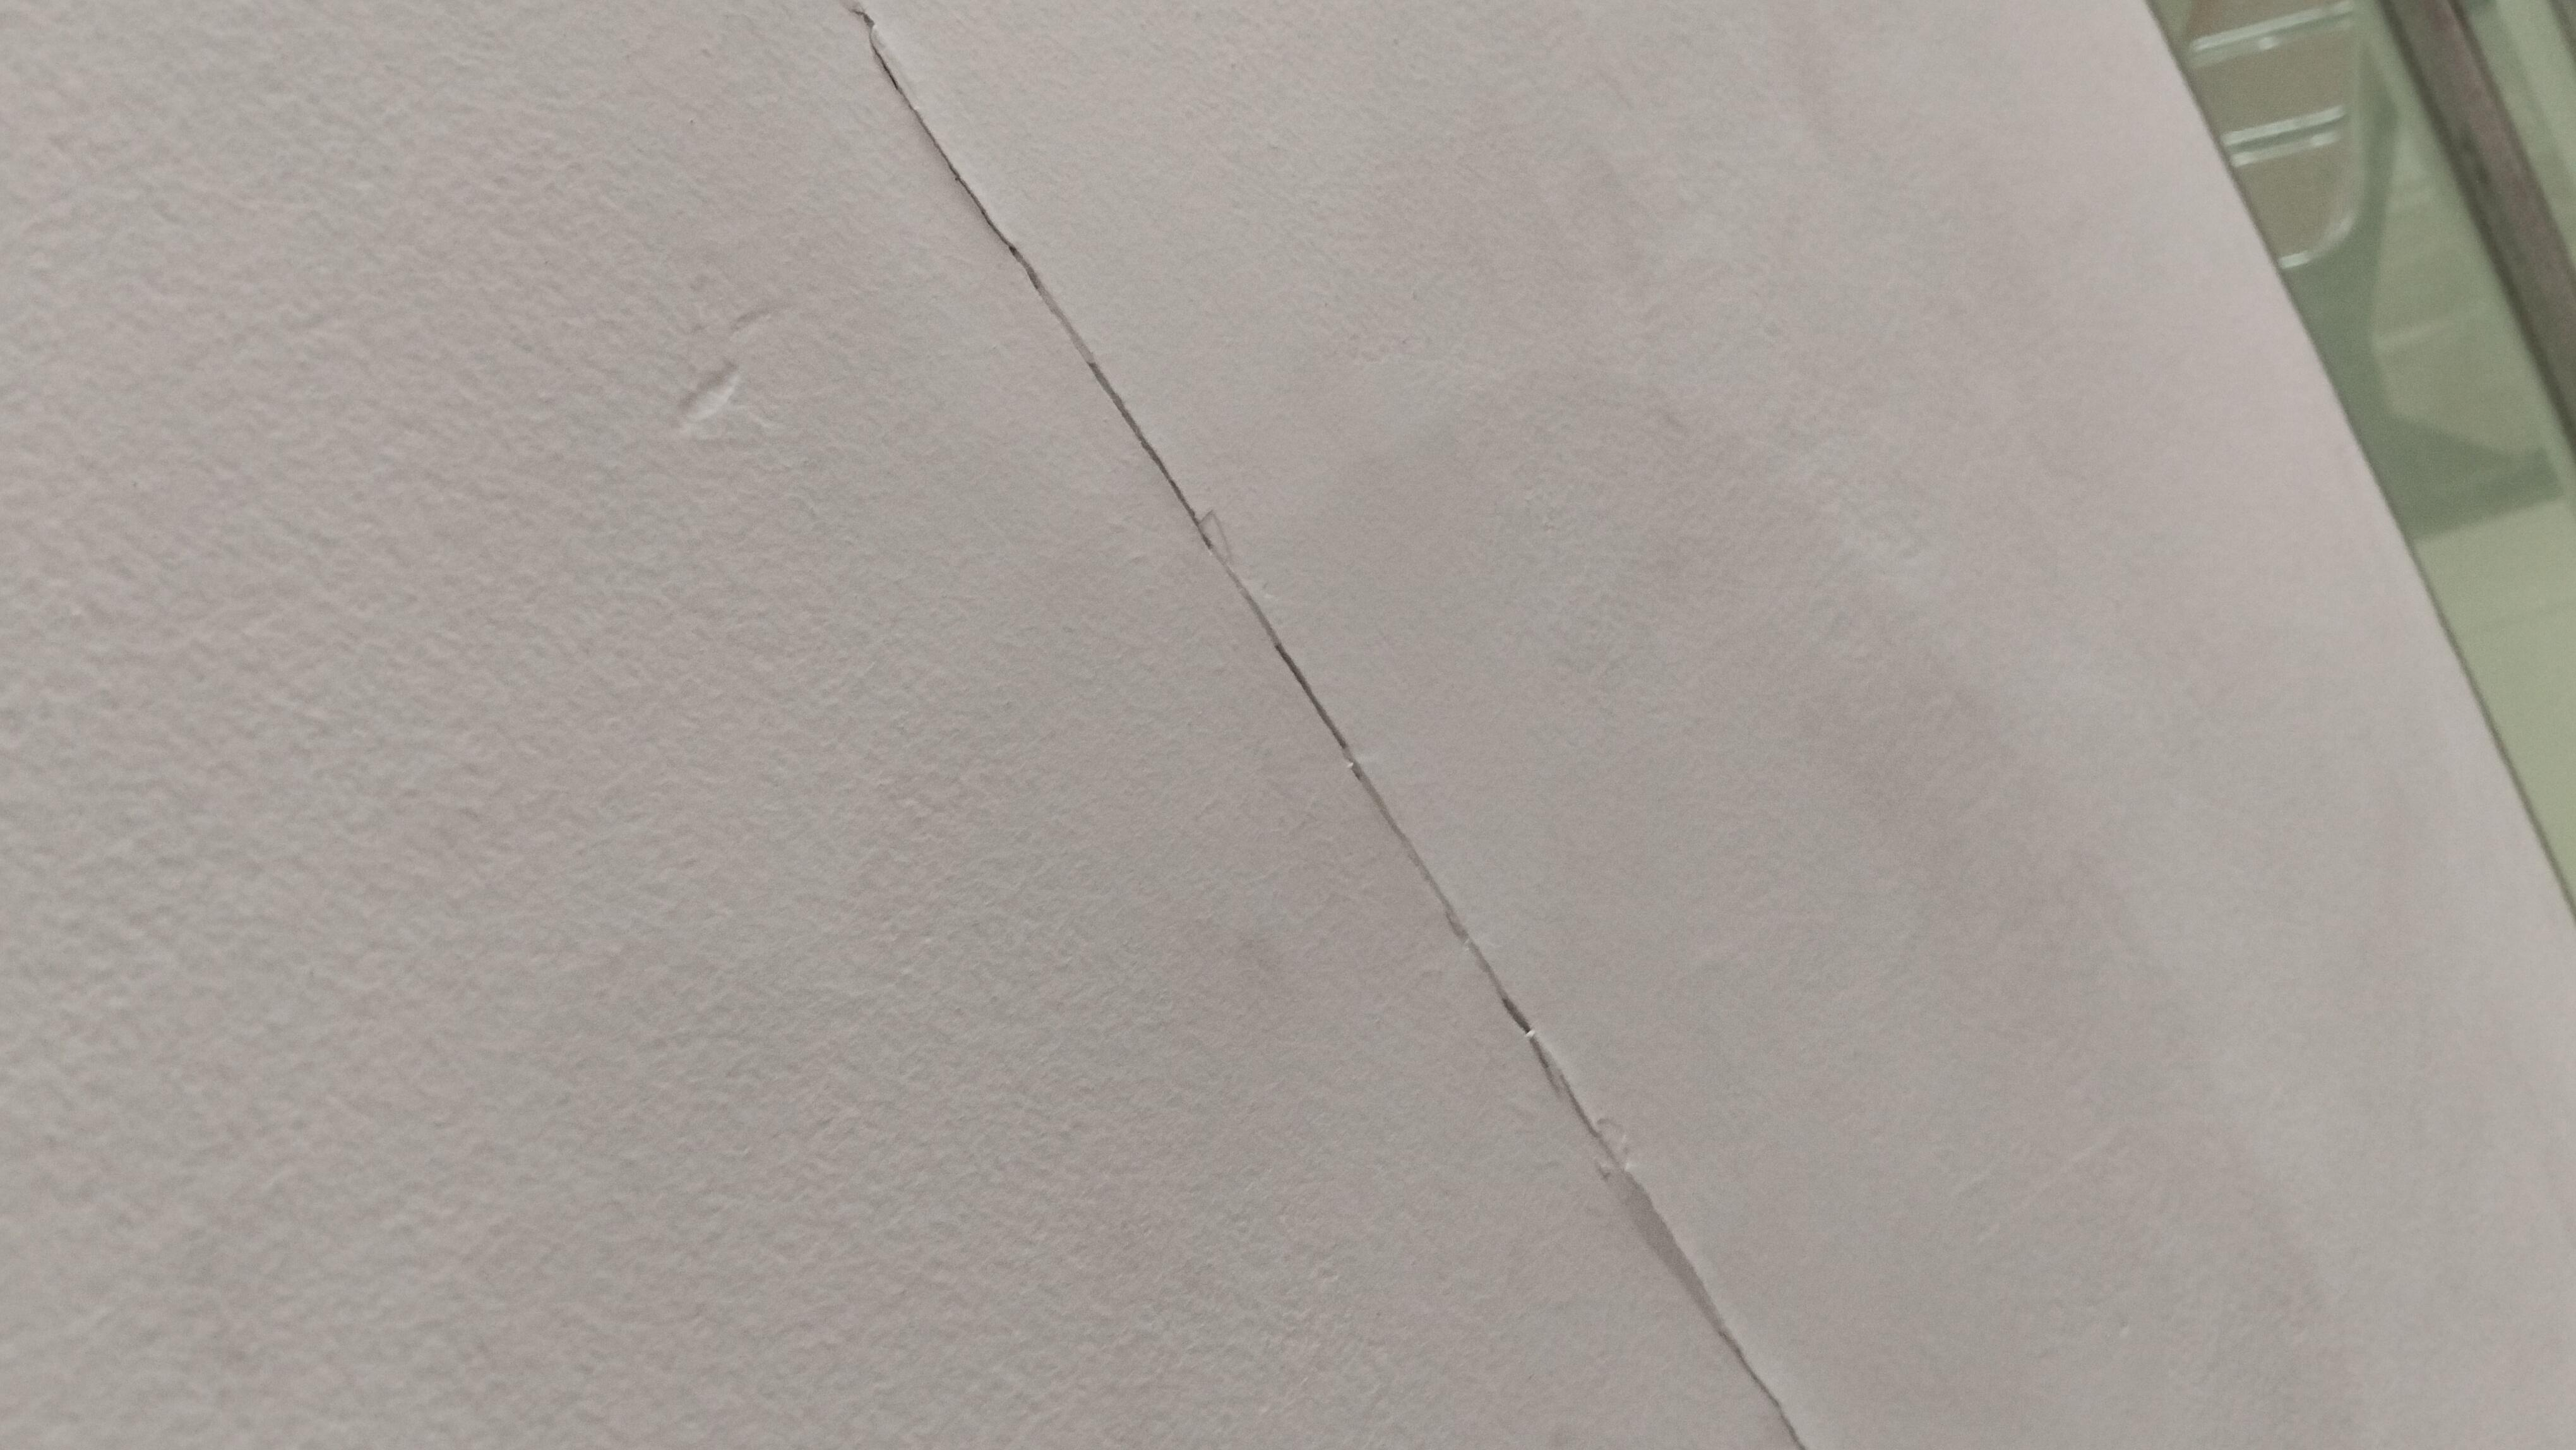Crack: (817, 32, 1251, 591), (1247, 625, 1442, 951), (1486, 891, 1635, 1291)
